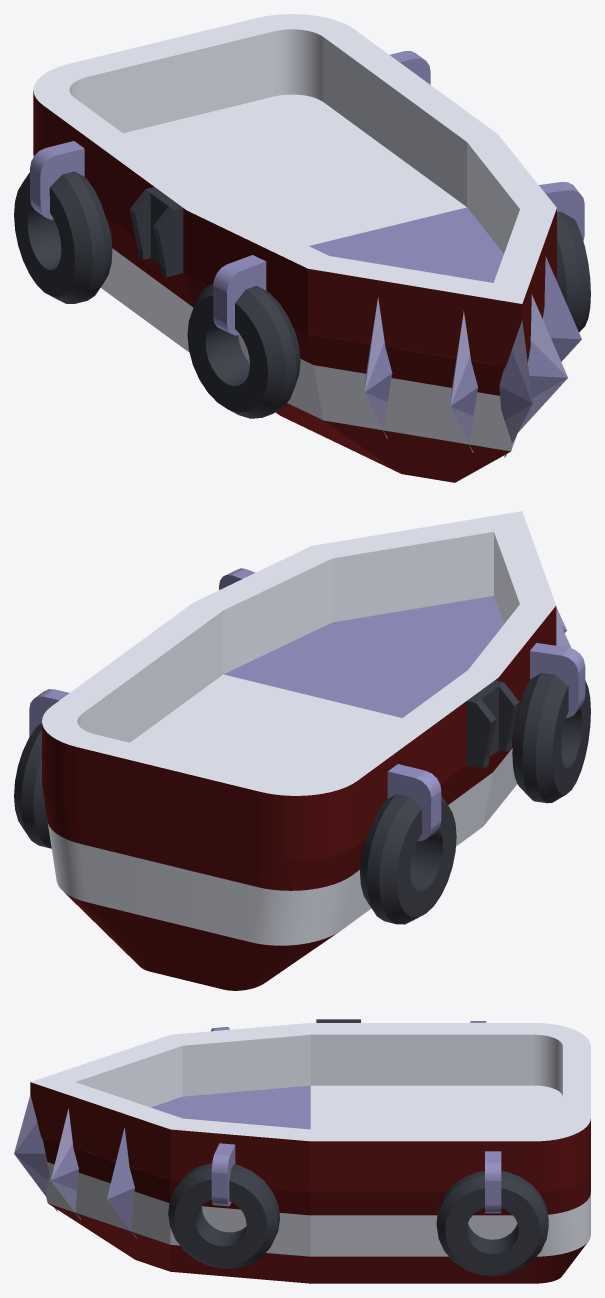
The model's file is boat small enemy.fbx.
3 renders of one model, top to bottom at view 1: azimuth 30°, elevation 25°; view 2: azimuth 150°, elevation 25°; view 3: azimuth 270°, elevation 25°, orthographic. The views are drawn at different scales.
Parts seen in each view (by area): view 1: rail_back, rail_front, hull_halfBack, detail_tireAttachment (×4), hull_halfFront, blade_dual_top (×5), detailTargetSight; view 2: hull_halfBack, rail_back, rail_front, detail_tireAttachment (×3), hull_halfFront, detailTargetSight; view 3: rail_back, hull_halfBack, rail_front, hull_halfFront, detail_tireAttachment (×2), blade_dual_top (×3).
Boxes of the visible parts, x1,y1,x2,y2 form: rail_back: [33, 14, 497, 275]; rail_front: [187, 134, 556, 366]; hull_halfBack: [100, 94, 466, 352]; detail_tireAttachment (×4): [14, 51, 590, 418]; hull_halfFront: [187, 207, 556, 482]; blade_dual_top (×5): [364, 256, 581, 457]; detailTargetSight: [129, 187, 183, 277]; hull_halfBack: [43, 674, 496, 990]; rail_back: [42, 603, 498, 859]; rail_front: [193, 511, 556, 719]; detail_tireAttachment (×3): [14, 643, 590, 924]; hull_halfFront: [224, 596, 517, 825]; detailTargetSight: [466, 680, 519, 768]; rail_back: [310, 1023, 590, 1192]; hull_halfBack: [310, 1085, 590, 1283]; rail_front: [30, 1023, 310, 1191]; hull_halfFront: [41, 1085, 310, 1283]; detail_tireAttachment (×2): [168, 1143, 548, 1276]; blade_dual_top (×3): [14, 1095, 136, 1238].
Bounding box in the file's own units: 19.26 × 10.5 × 30.88.
